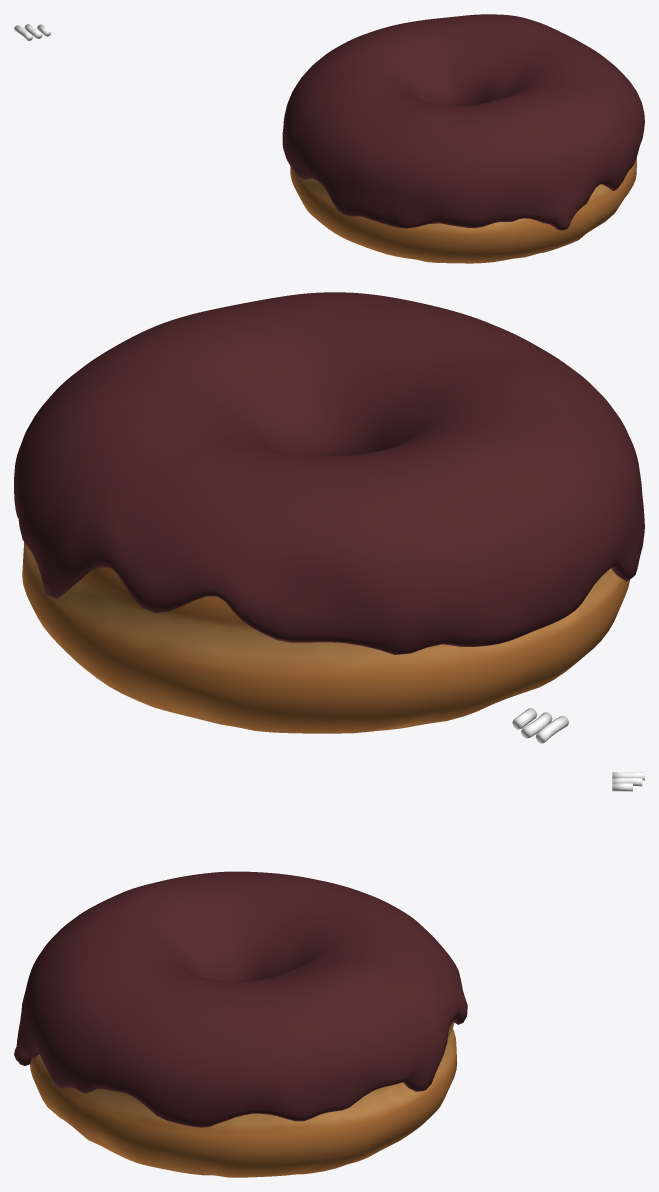
Rendered from donut7.gltf.
The picture shows the model from 3 angles, top to bottom: view 1: azimuth 30°, elevation 25°; view 2: azimuth 150°, elevation 25°; view 3: azimuth 270°, elevation 25°; orthographic projection. The views are drawn at different scales.
Visible parts, largest first — view 1: Icing, Dough; view 2: Icing, Dough; view 3: Icing, Dough.
Part boxes in pixels (<box>): Icing: <box>282,14,644,230</box>; Dough: <box>290,157,636,263</box>; Icing: <box>14,292,644,654</box>; Dough: <box>22,542,629,733</box>; Icing: <box>14,871,467,1127</box>; Dough: <box>30,1021,457,1177</box>.
Size of what is drawn, in the model's own units: 1.41 by 0.4563 by 1.41.
3 materials, 1 textured.
